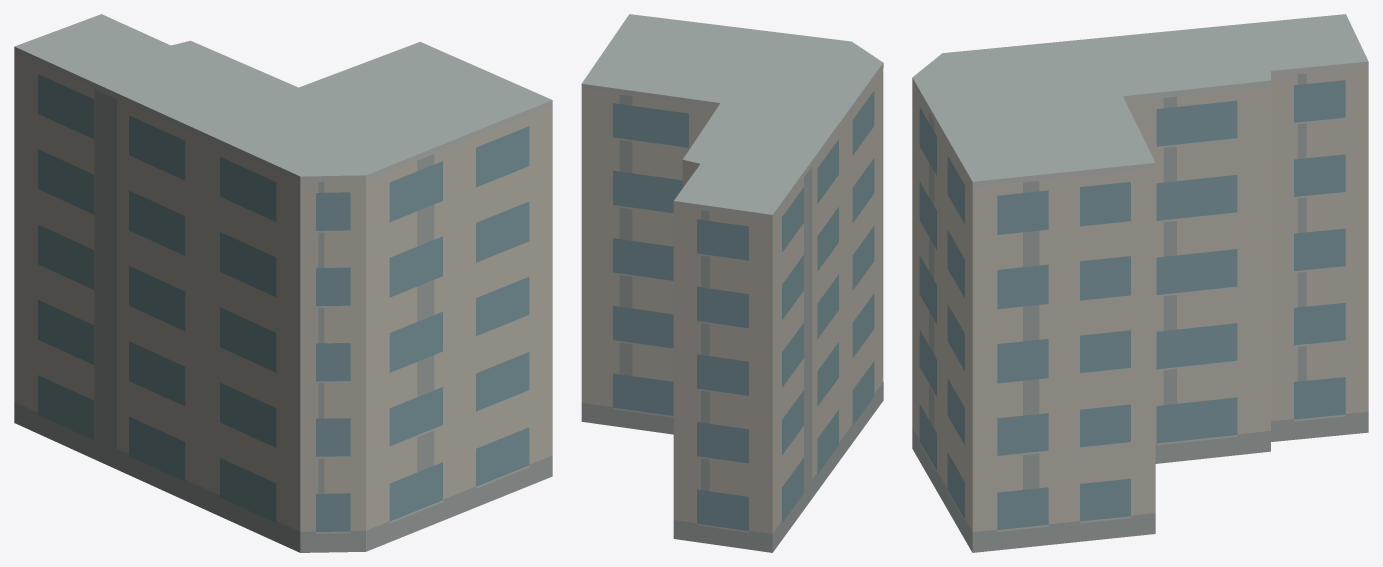
File: survey-upis-32498305.glb
3 renders of one model, left to right at view 1: azimuth 30°, elevation 25°; view 2: azimuth 150°, elevation 25°; view 3: azimuth 270°, elevation 25°, orthographic. The views are drawn at different scales.
Visible parts, largest first — view 1: survey-upis-32498305.tmp; view 2: survey-upis-32498305.tmp; view 3: survey-upis-32498305.tmp.
Boxes of the visible parts, x1,y1,x2,y2 form: survey-upis-32498305.tmp: [14, 14, 552, 552]; survey-upis-32498305.tmp: [581, 14, 883, 552]; survey-upis-32498305.tmp: [912, 14, 1368, 552].
Bounding box in the file's own units: 14.85 × 15.3 × 17.06.
